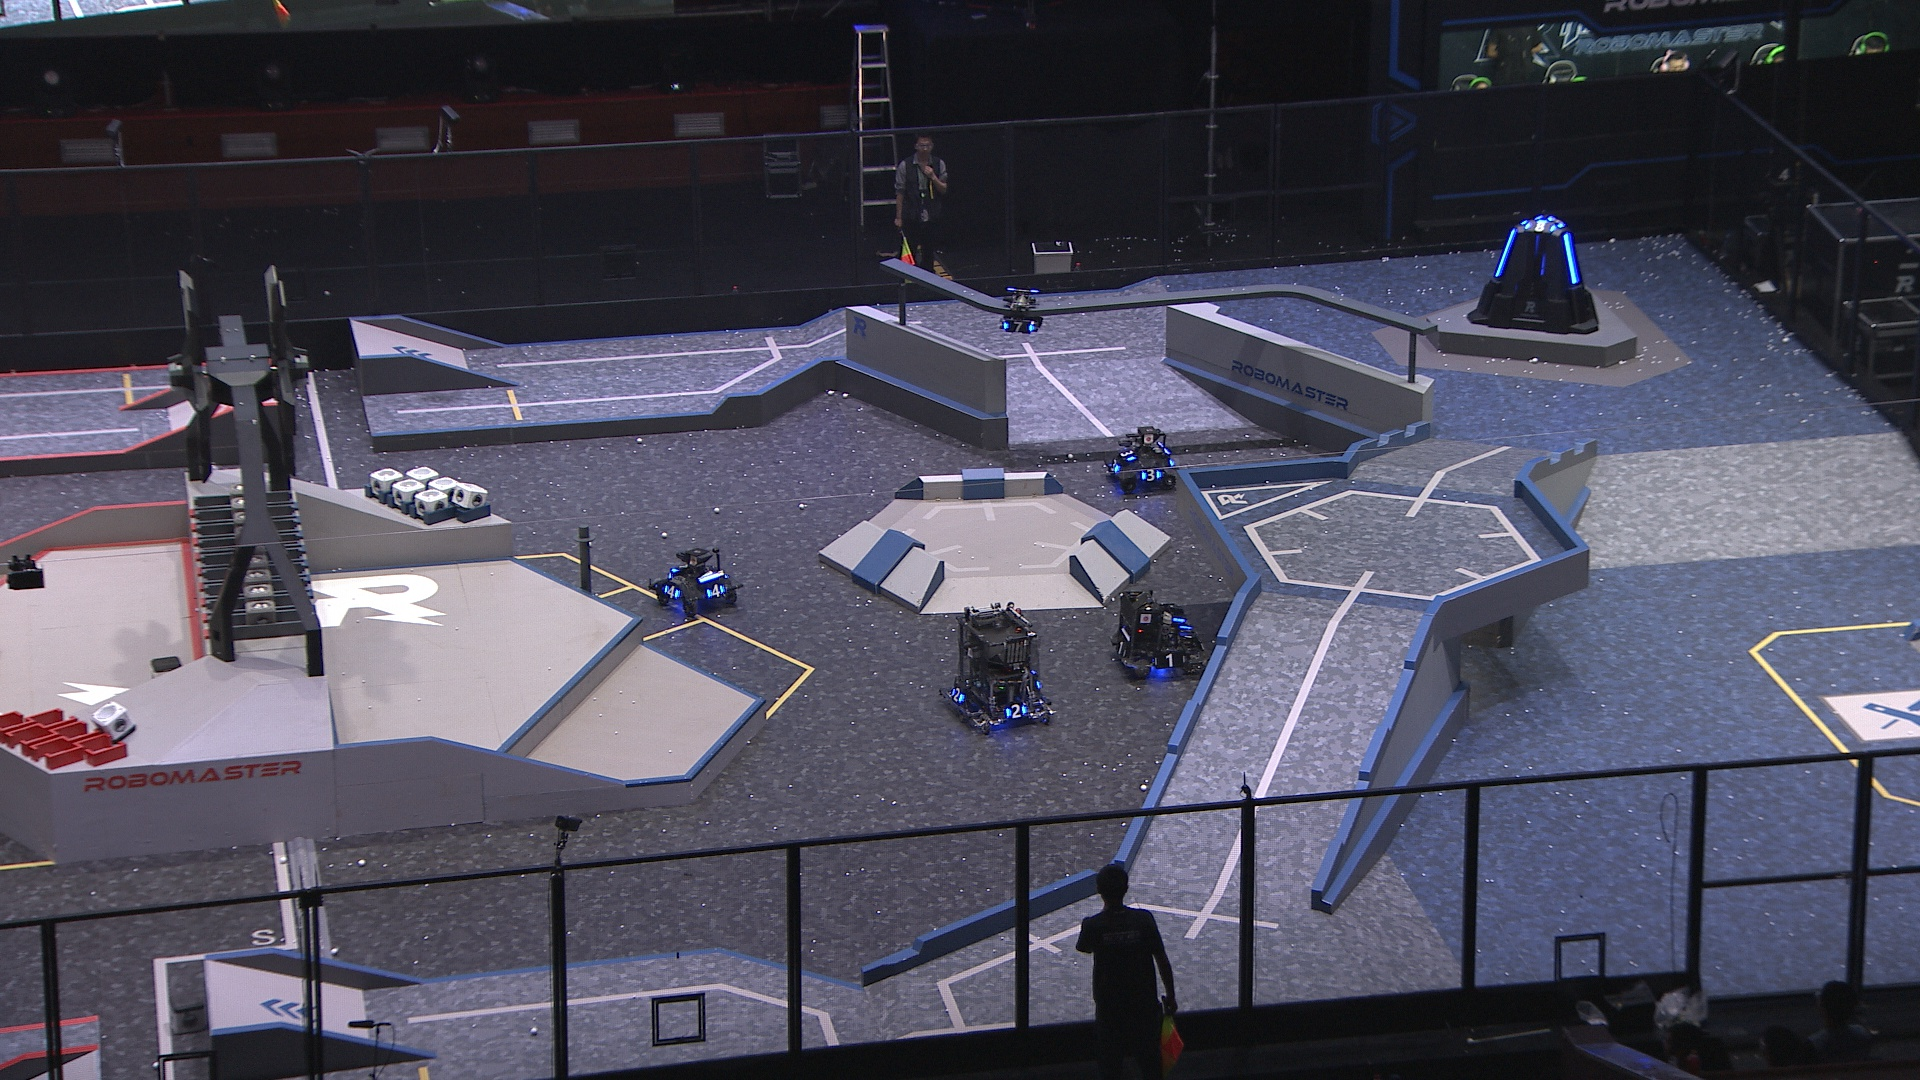armor: (1493, 228, 1519, 280), (1563, 233, 1582, 286), (1153, 651, 1188, 670), (1002, 319, 1040, 334), (1524, 220, 1557, 235), (705, 583, 728, 600), (1006, 702, 1030, 717), (949, 684, 967, 705), (1139, 469, 1163, 484), (665, 584, 683, 603), (1114, 640, 1130, 661), (1106, 458, 1122, 475), (1120, 448, 1138, 462)
base: (1462, 216, 1602, 338)
car: (938, 603, 1054, 732), (1112, 589, 1211, 680), (647, 545, 746, 618), (1106, 425, 1178, 491)
watcher: (1000, 287, 1044, 335)
